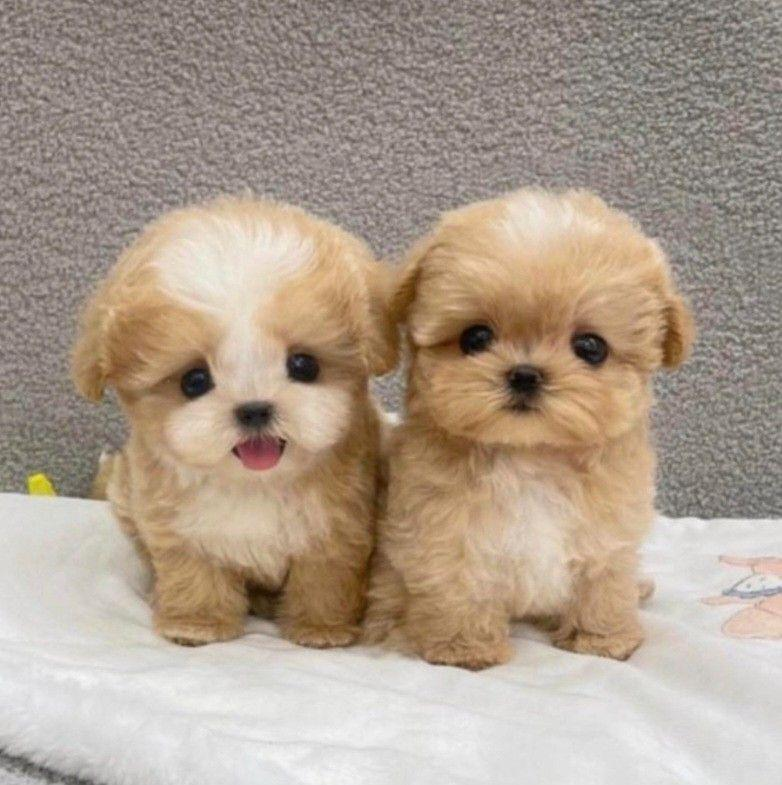puppy-dog: (370, 183, 698, 668), (63, 189, 406, 647)
